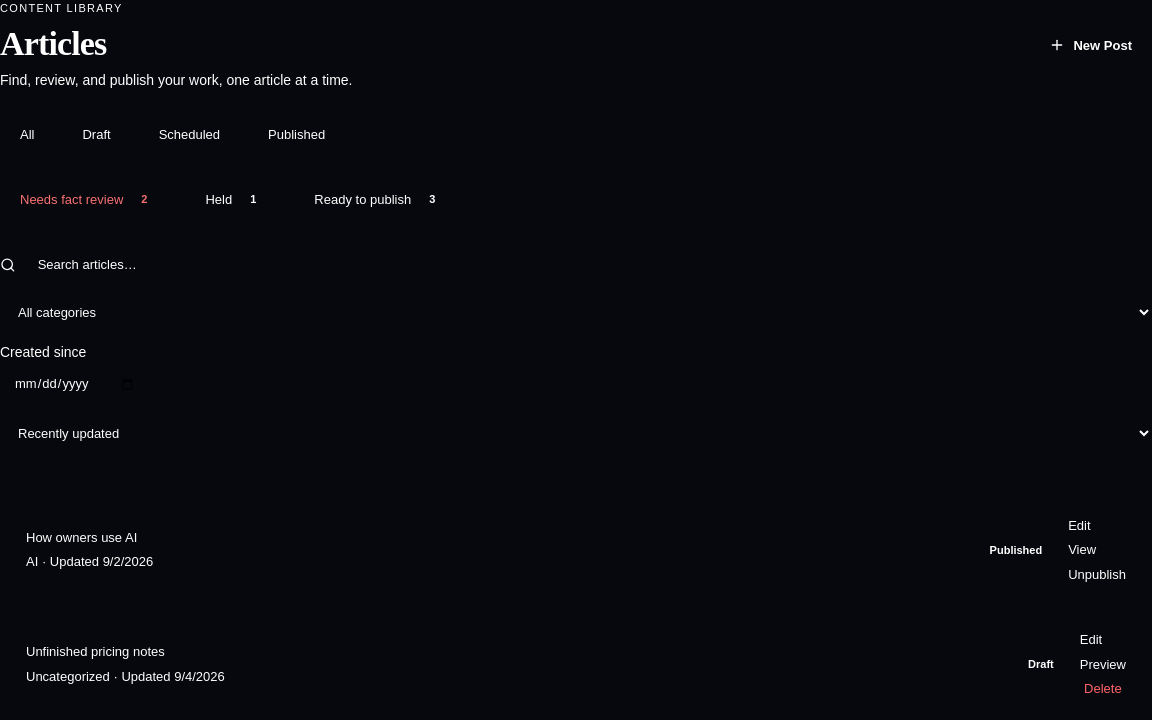
articles list row actions › requires typing DELETE before permanently deleting a draft and its history
Later steps or results of the test are not shown.
Click the button "Delete".
click(1103, 689)  # box [1080, 679, 1126, 699]
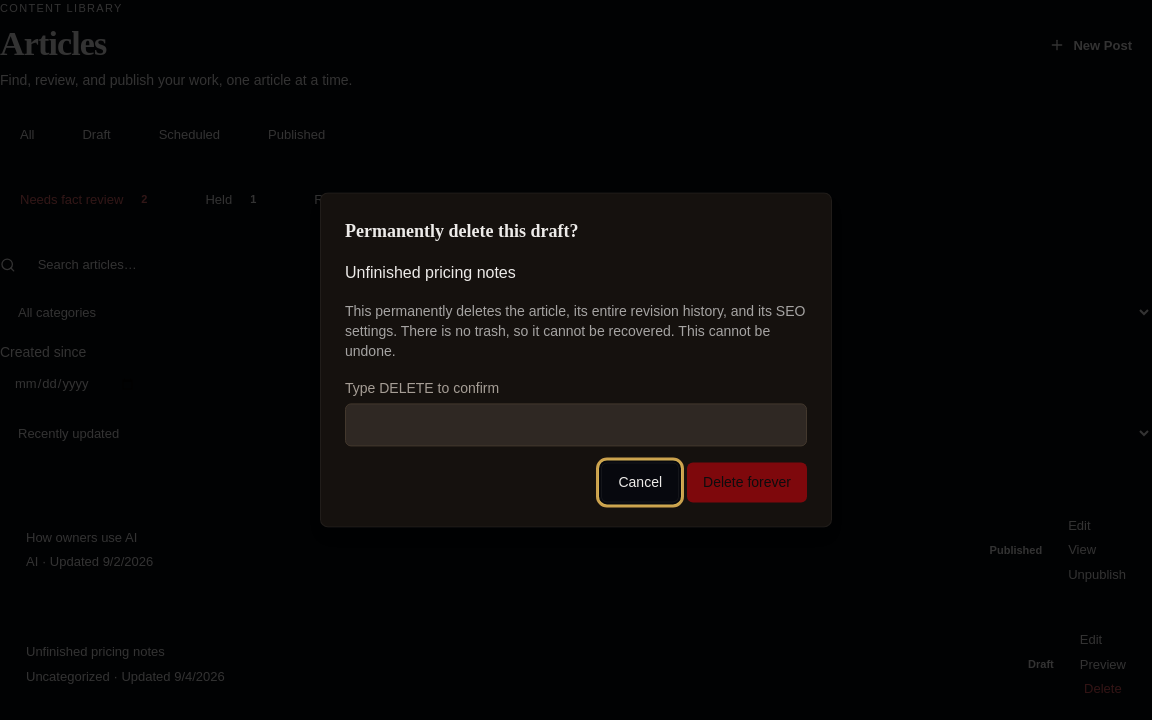
Expected: the dialog shows "Permanently delete this draft?", [345, 221, 578, 241]
Expected: the dialog shows "Unfinished pricing notes", [345, 264, 516, 281]
Expected: the dialog shows "revision history", [345, 303, 805, 359]
Type "delet" into the field labelled "Type DELETE to confirm".
click(576, 425); type("delet")  # box [345, 404, 807, 447]
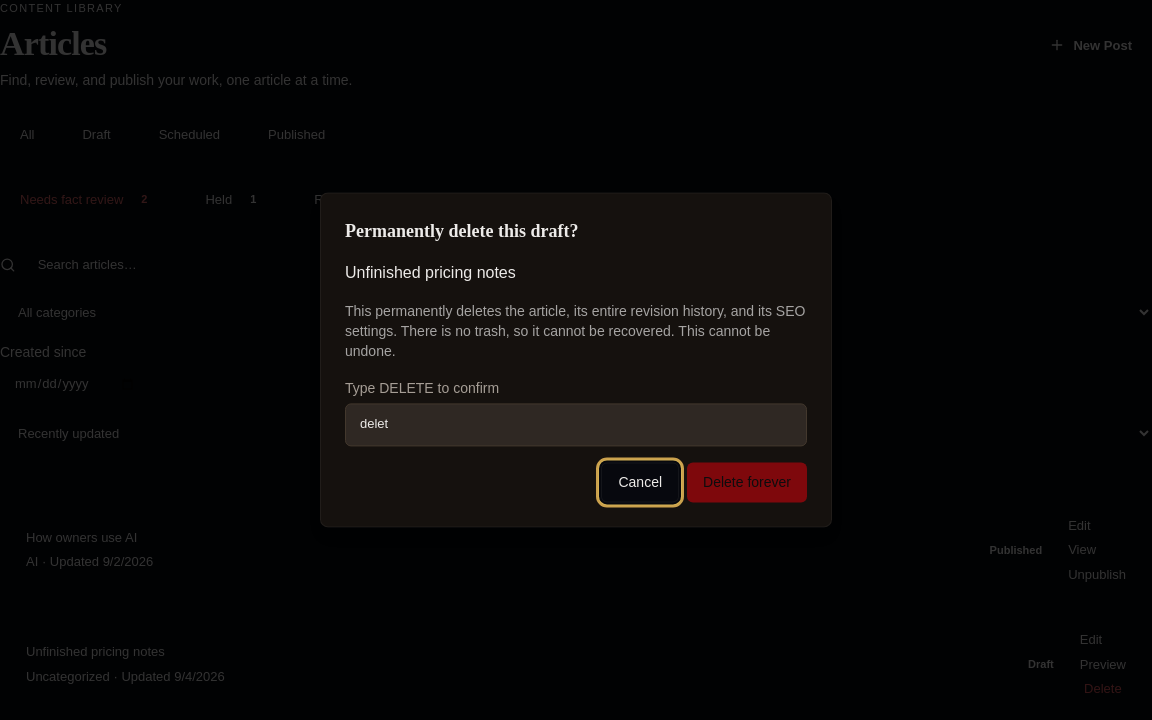
Expected: the button "Delete forever" is disabled
Click the button "Delete forever".
click(747, 483)  # box [687, 463, 807, 503]
Replace the text in the field labelled "Type DELETE to confirm" with "DELETE" at x=576, y=425, box [345, 404, 807, 447]
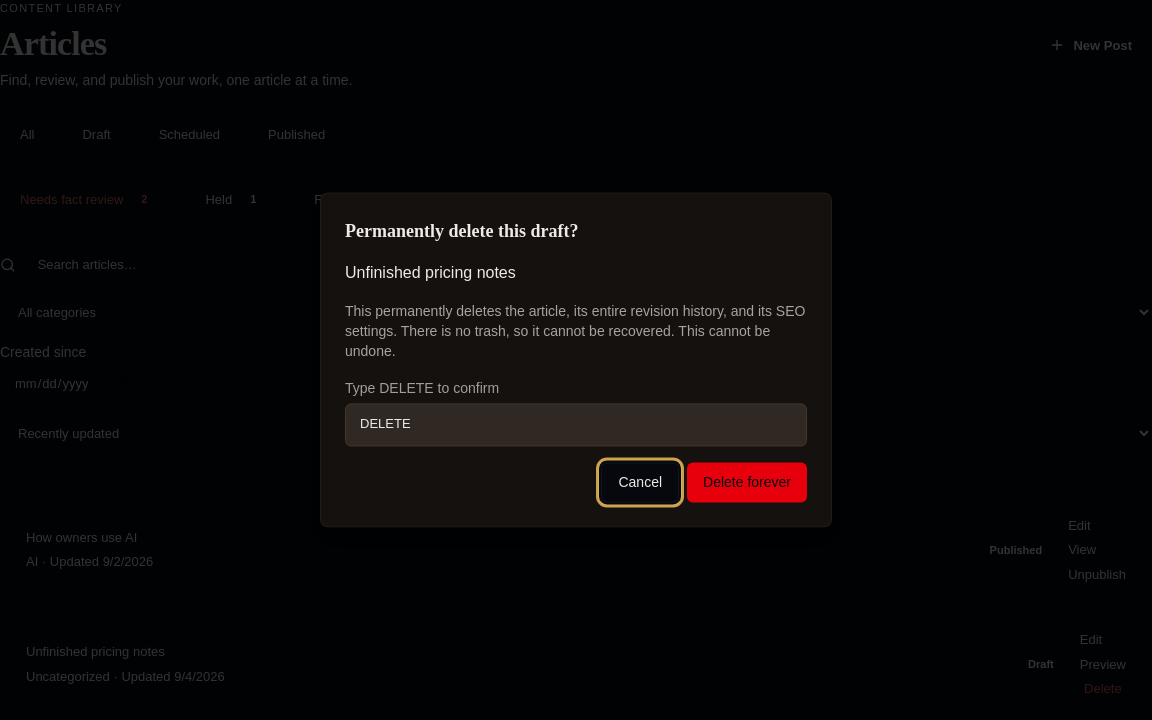
Expected: the button "Delete forever" is enabled, [687, 463, 807, 503]
